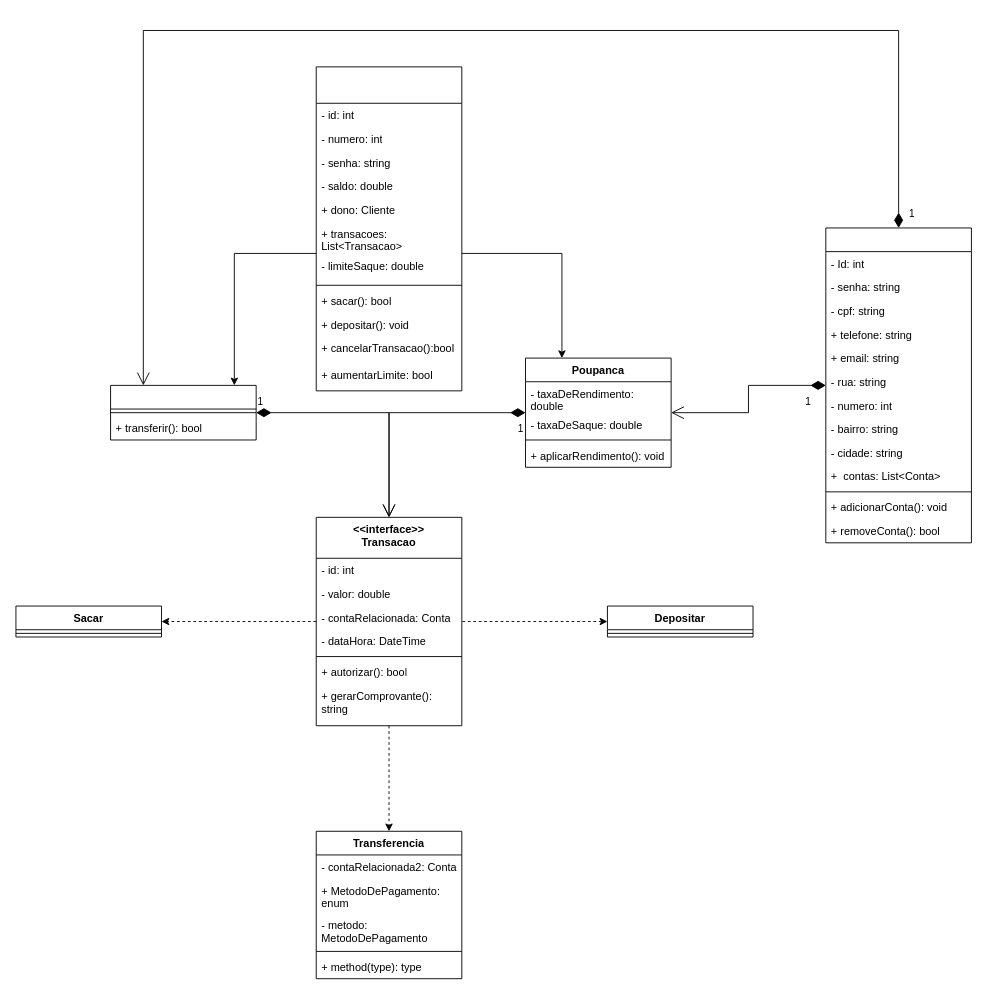
Some shapes in this 987 by 997 pixel diagram are drawn without their labels. Here are the shapes that lost their labels. From the top down, the box of each, then its label:
(315, 66, 462, 391): <<abstract>> Conta
(825, 227, 971, 543): Cliente
(110, 384, 256, 440): Corrente
